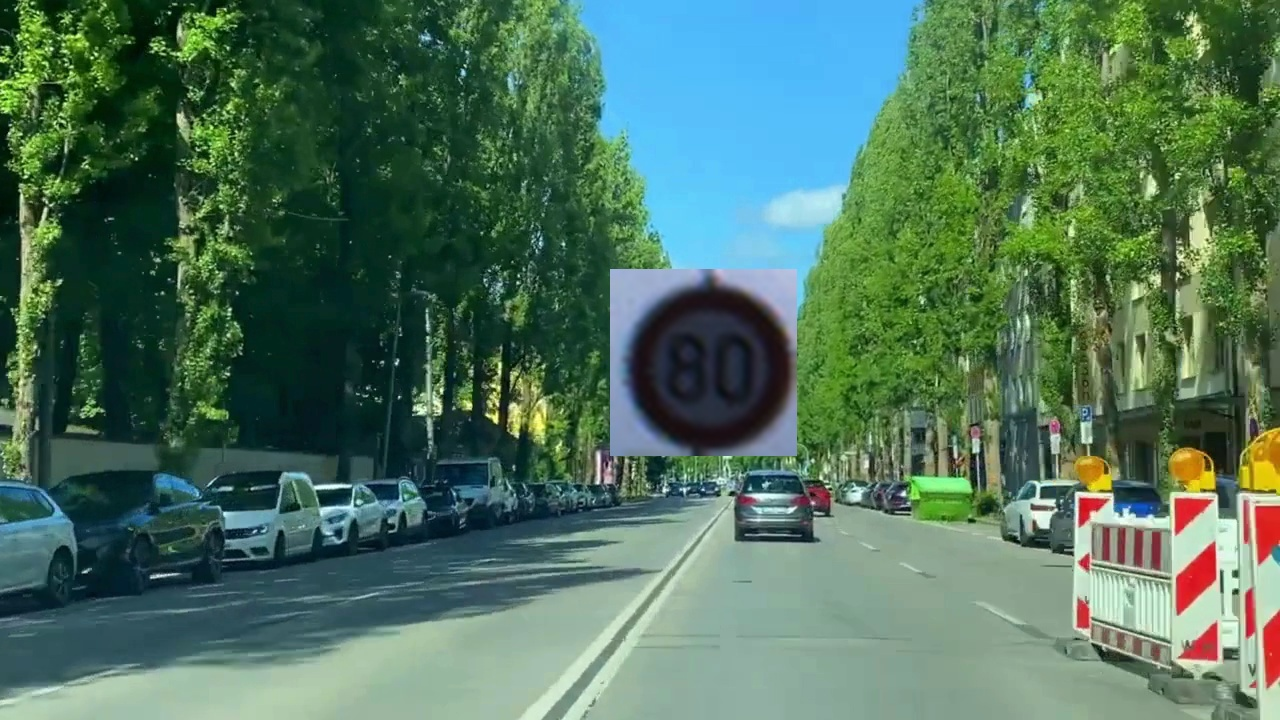Speed 80: (610, 269, 797, 456)
